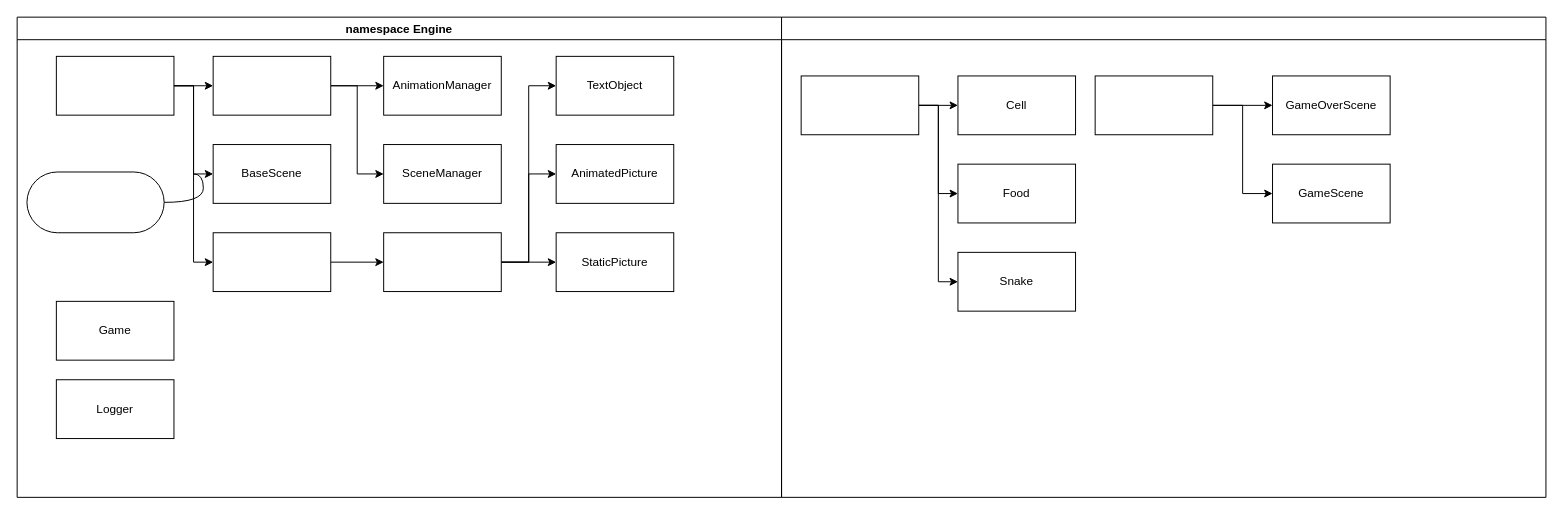
Image size: 1563x515. Some labels were removed from this diagram. The shapes that lost their labels are listed below. From the top down, each one's box as (x1, y1, x2, y2) in pixels, then its label:
(55, 55, 174, 115): Base
(212, 55, 331, 115): BaseManager
(800, 75, 919, 135): Engine:: BaseObject
(1094, 75, 1213, 135): Engine:: BaseScene
(26, 171, 164, 233): Стрелка обозначает наследование
(212, 232, 331, 292): BaseDrawable
(383, 232, 501, 292): BaseObject
